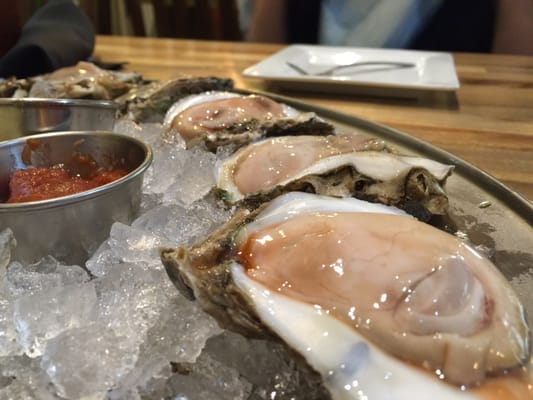sushi: (0, 129, 154, 266)
